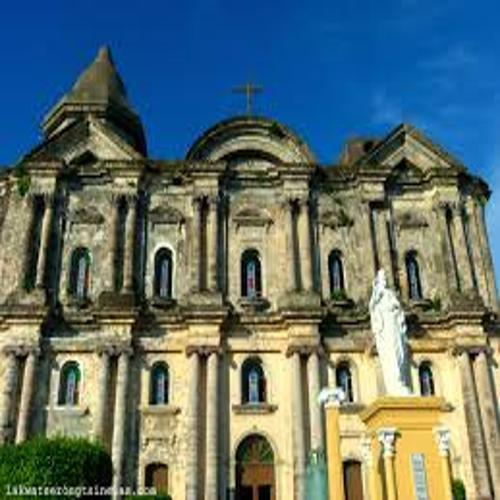Taal Basilica Church: (2, 40, 500, 500)
